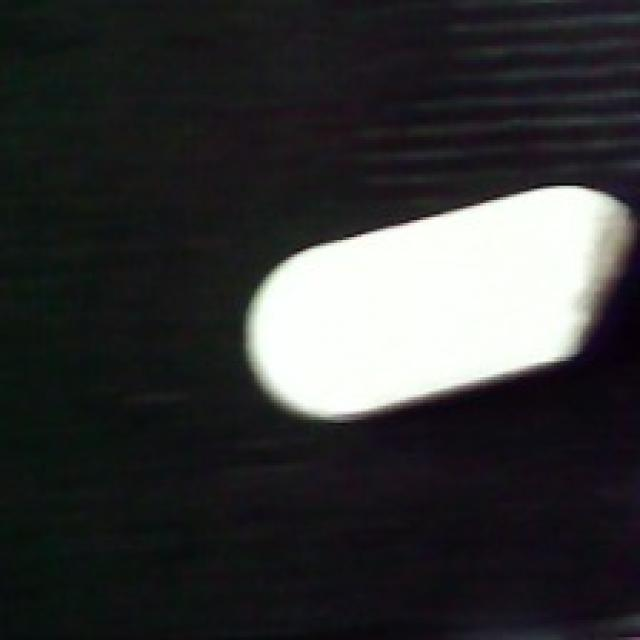defected: (240, 181, 637, 426)
